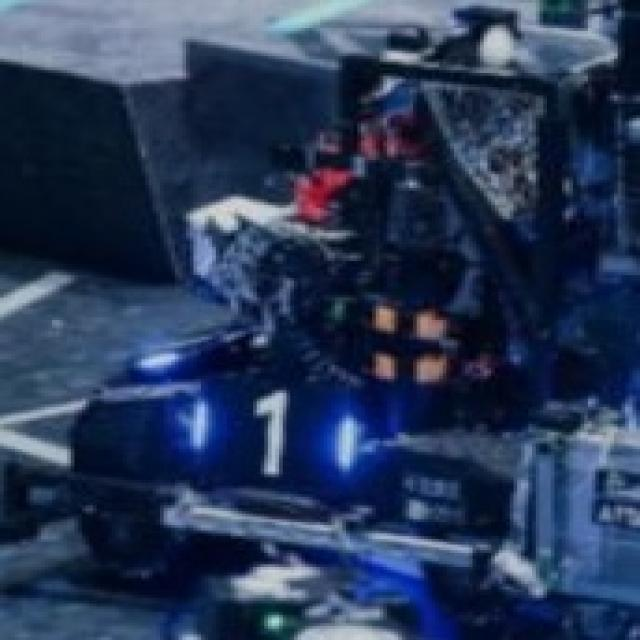B1: (182, 387, 361, 480)
